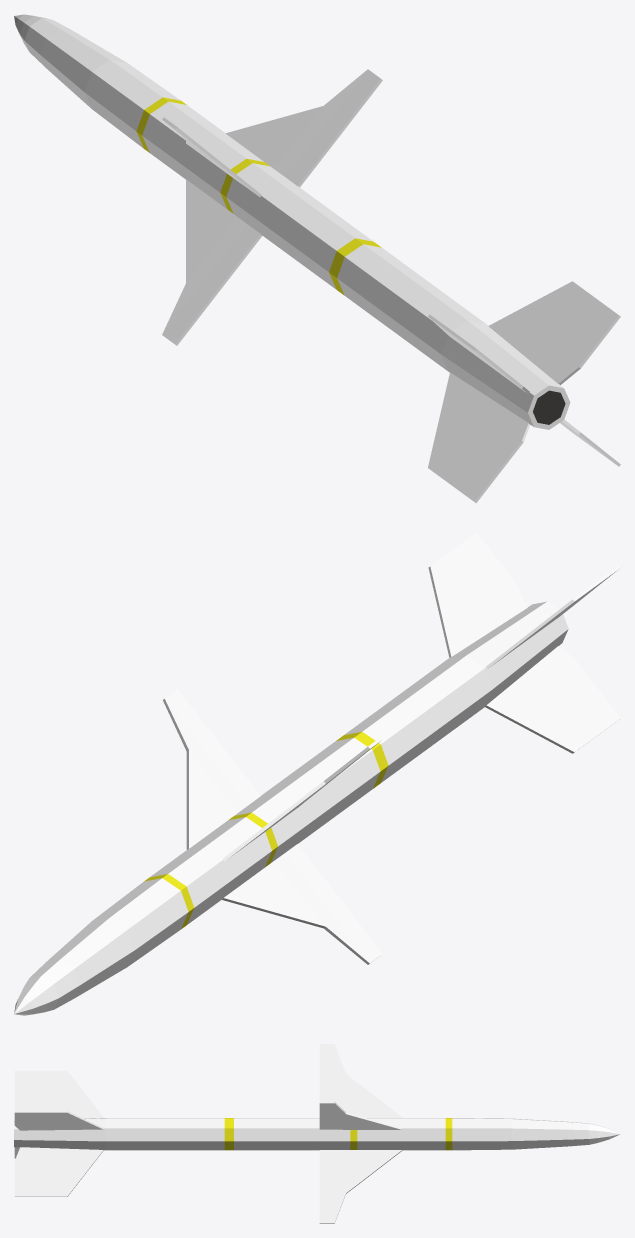
File: AGM-88.glb
3 renders of one model, top to bottom at view 1: azimuth 30°, elevation 25°; view 2: azimuth 150°, elevation 25°; view 3: azimuth 270°, elevation 25°, orthographic. The views are drawn at different scales.
Visible parts, largest first — view 1: Cylinder; view 2: Cylinder; view 3: Cylinder.
Boxes of the visible parts, left/top/right/bottom form: Cylinder: left=14, top=14, right=620, bottom=503; Cylinder: left=14, top=532, right=620, bottom=1015; Cylinder: left=14, top=1044, right=620, bottom=1223.
Size of the model in its own units: 0.9096 by 0.9168 by 4.06.
1 material, 1 textured.
